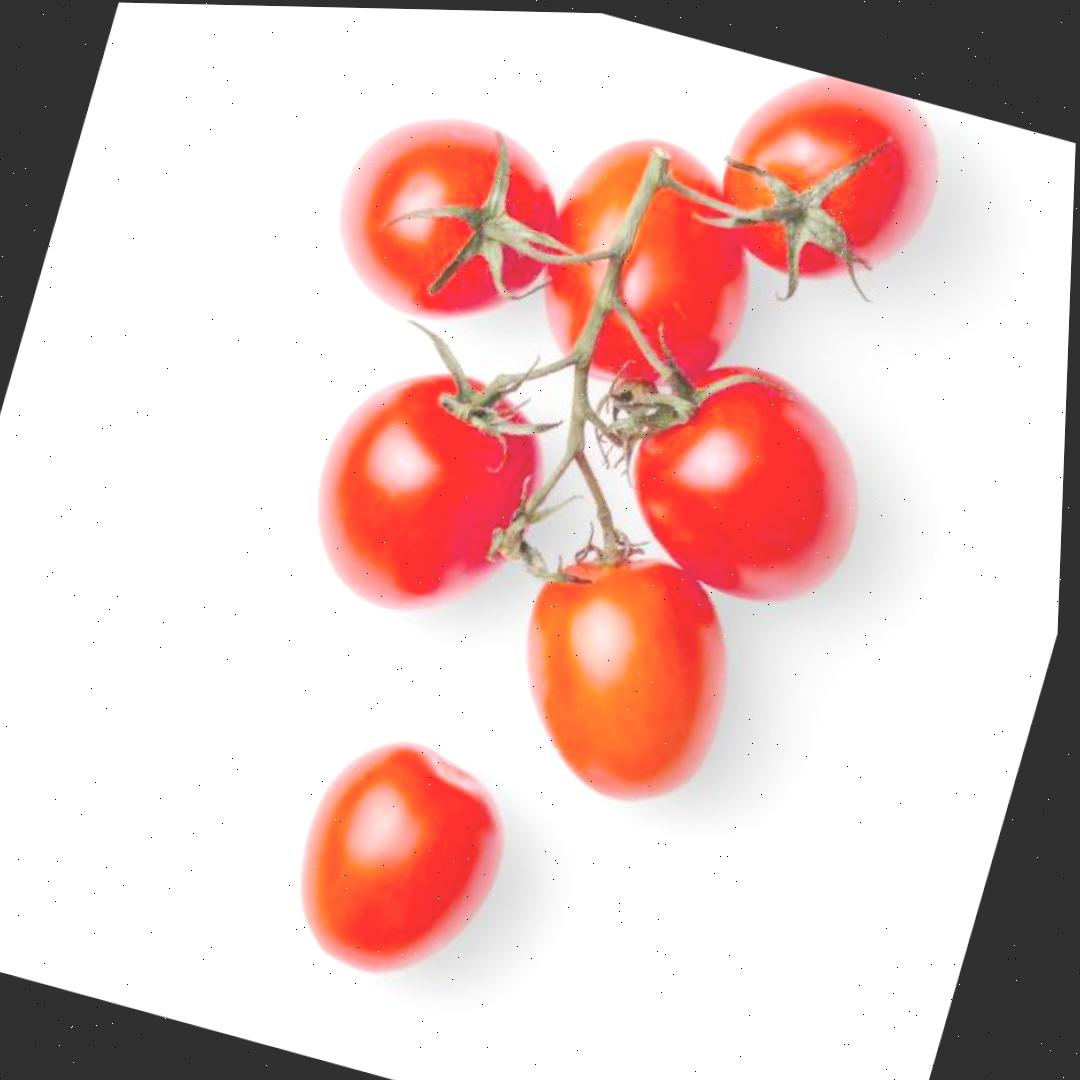matang: (289, 343, 571, 639), (601, 339, 891, 623), (485, 526, 759, 821), (511, 119, 785, 414), (273, 719, 531, 998), (311, 89, 581, 346), (702, 54, 961, 305)
